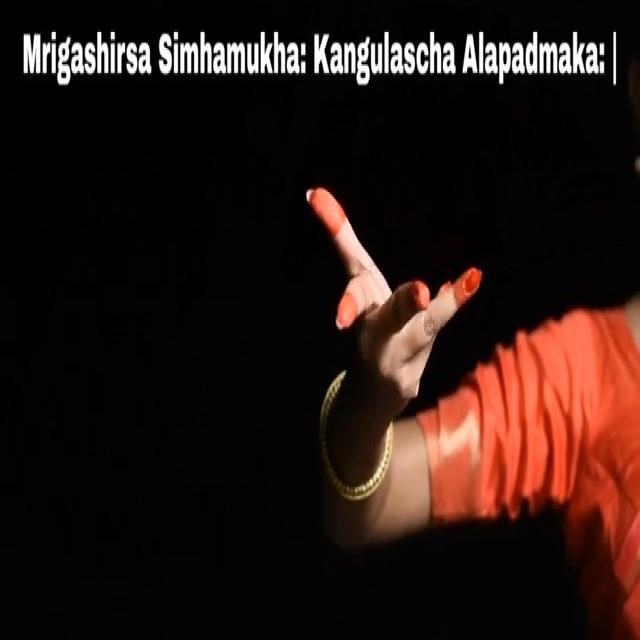Alapadma: (292, 146, 503, 418)
bangle: (316, 375, 400, 517)
text: (11, 10, 621, 99)
